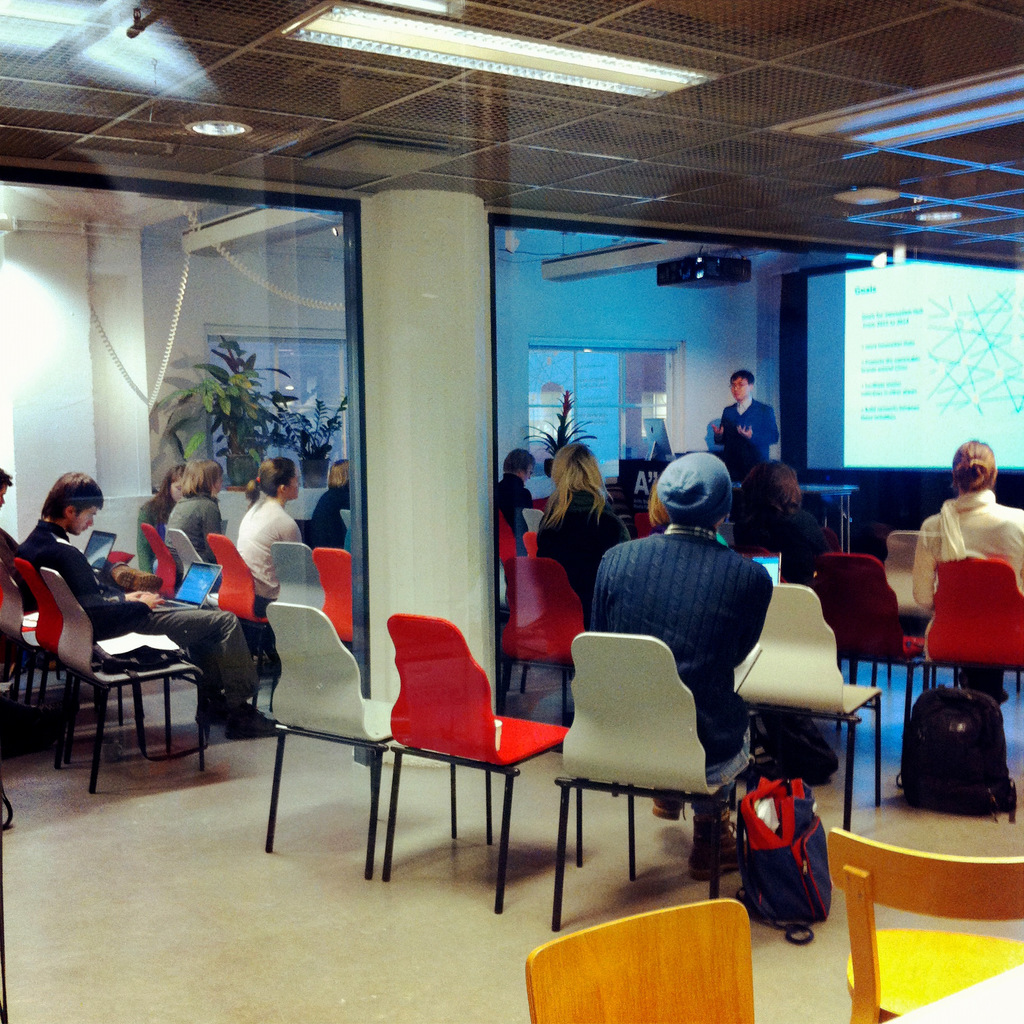Footwear: (690, 809, 753, 882), (225, 698, 282, 745)
